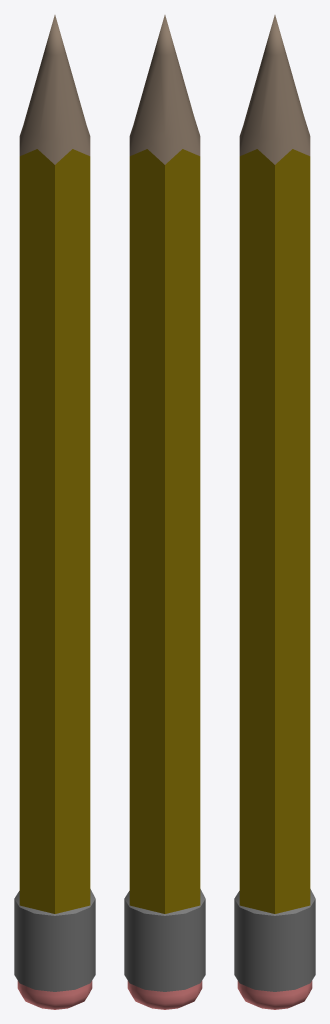
Rendered from Pencil_SM.fbx.
The picture shows the model from 3 angles, left to right: view 1: azimuth 90°, elevation 25°; view 2: azimuth 210°, elevation 25°; view 3: azimuth 270°, elevation 25°; orthographic projection.
Visible parts, largest first — view 1: Pencil; view 2: Pencil; view 3: Pencil.
Part boxes in pixels (x1,y1,x2,y2): Pencil: (14,15,95,1009); Pencil: (124,15,205,1009); Pencil: (234,15,315,1009).
Bounding box in the file's own units: 2.12 × 28.28 × 2.11.
